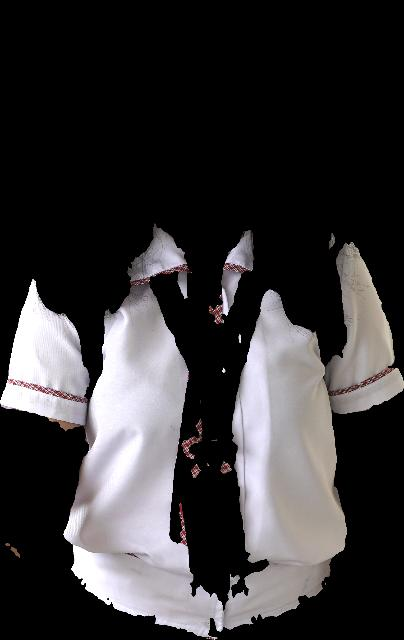pologirl: (0, 224, 403, 639)
